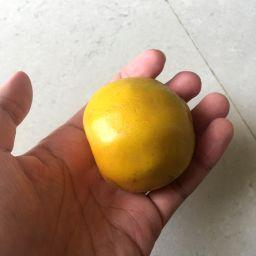Unripe: (85, 78, 195, 189)
